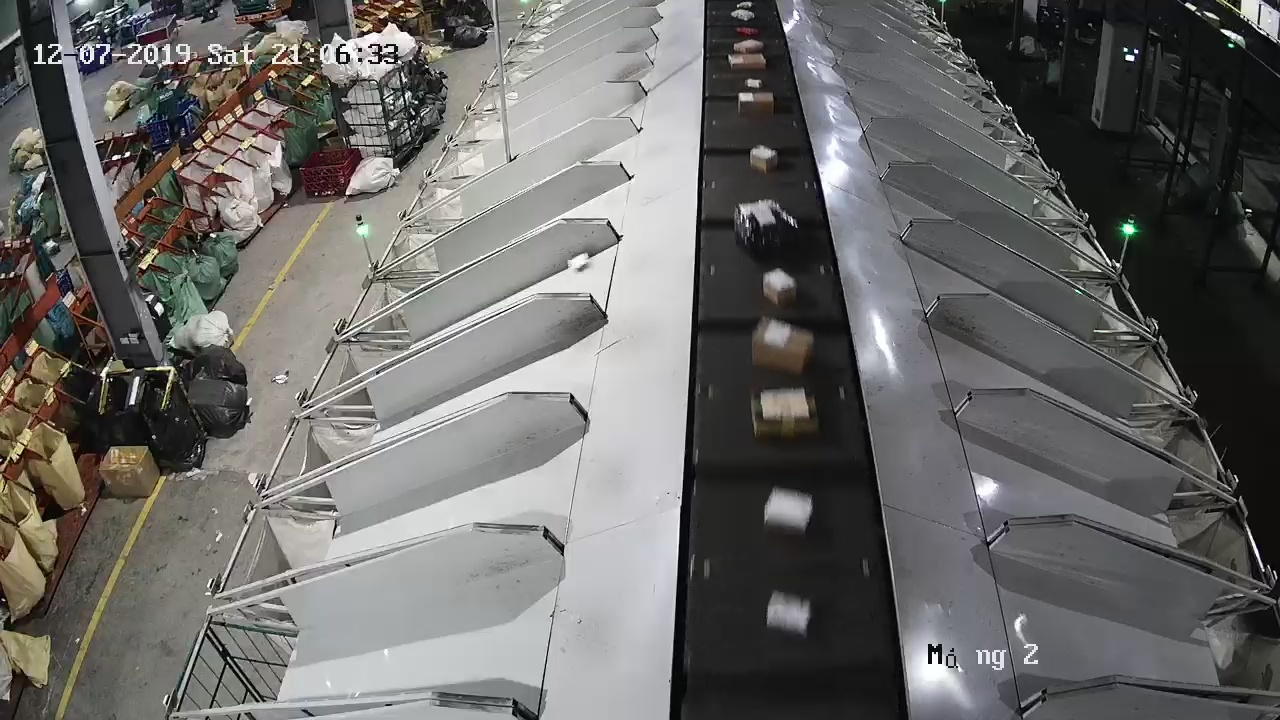parcel: (567, 251, 590, 272)
